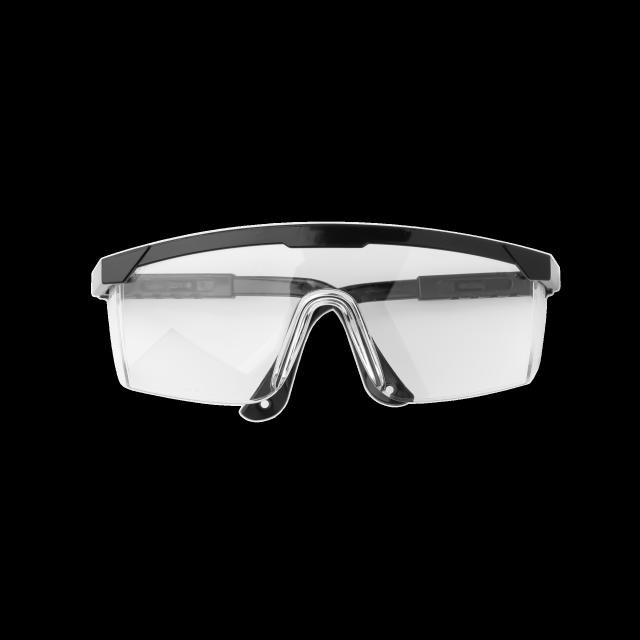Protective Glasses: (58, 190, 587, 433)
